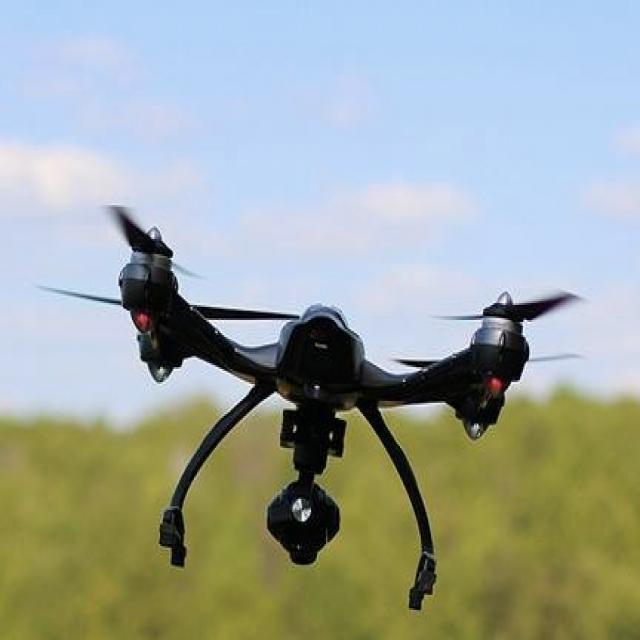drone: (28, 183, 624, 619)
